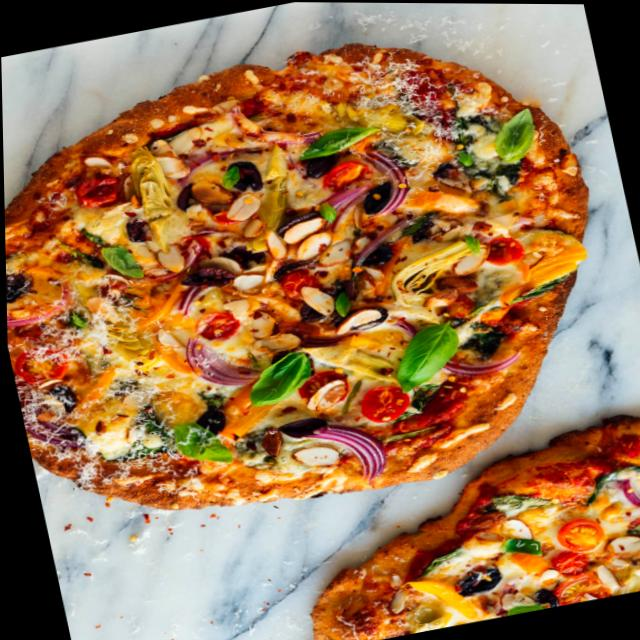pizza: (0, 0, 640, 558), (266, 405, 640, 640)
